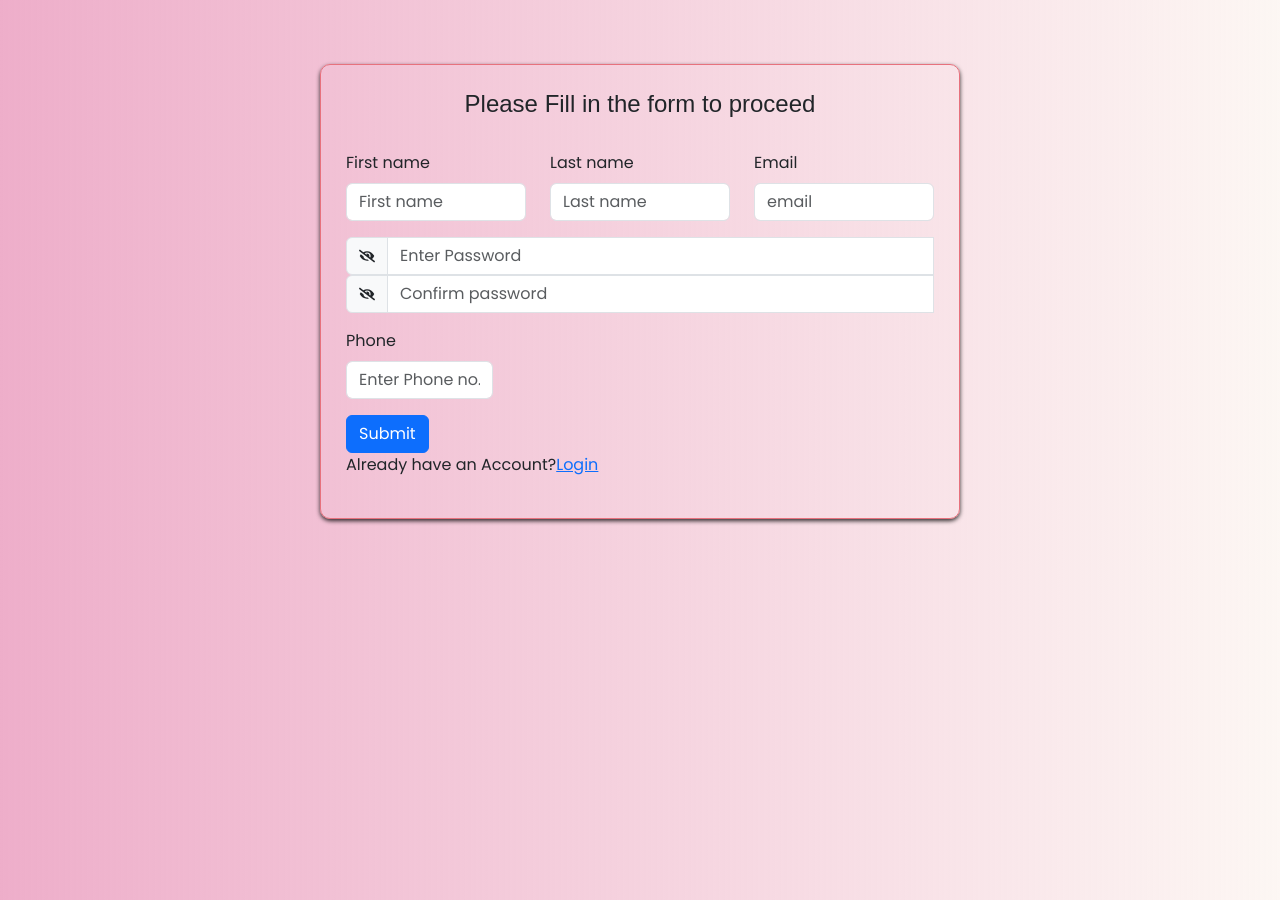
Test: shows error when passwords do not match
Type "password123" into the password field with placeholder "Enter Password".
click(660, 256); type("password123")  # box [387, 237, 934, 275]
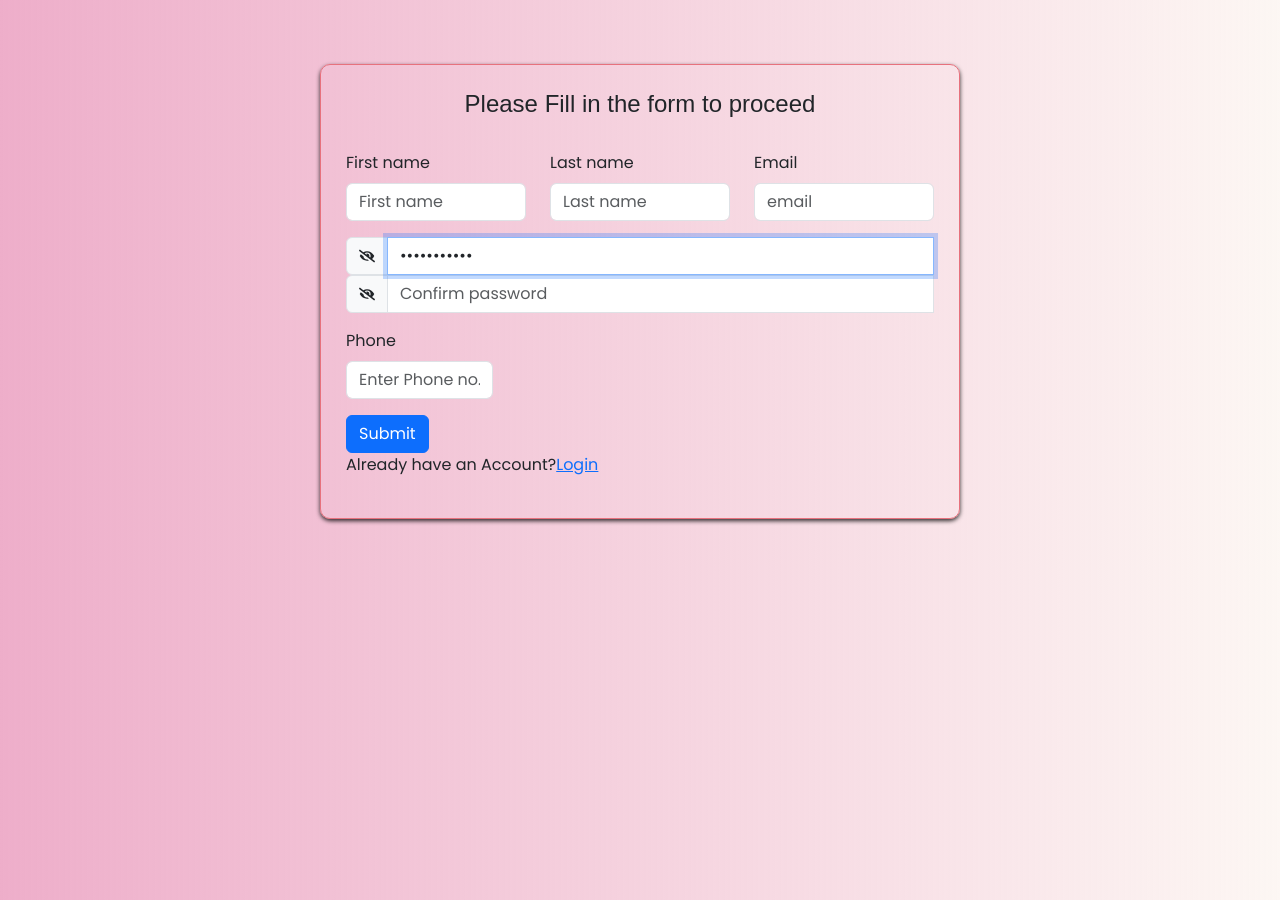
Type "password321" into the password field with placeholder "Confirm password".
click(660, 294); type("password321")  # box [387, 275, 934, 313]
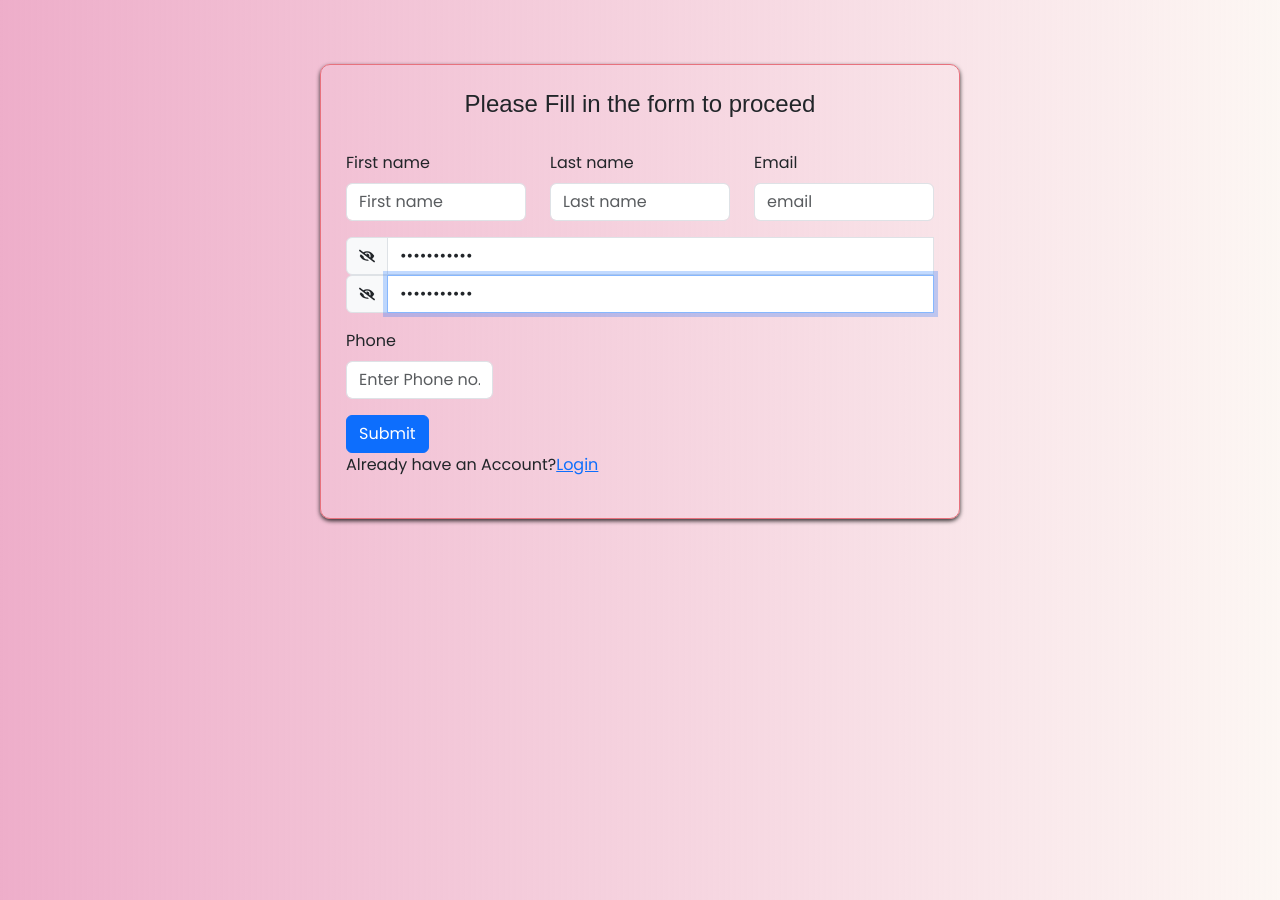
Leave the 2nd password field with placeholder "Confirm password", box [387, 275, 934, 313]
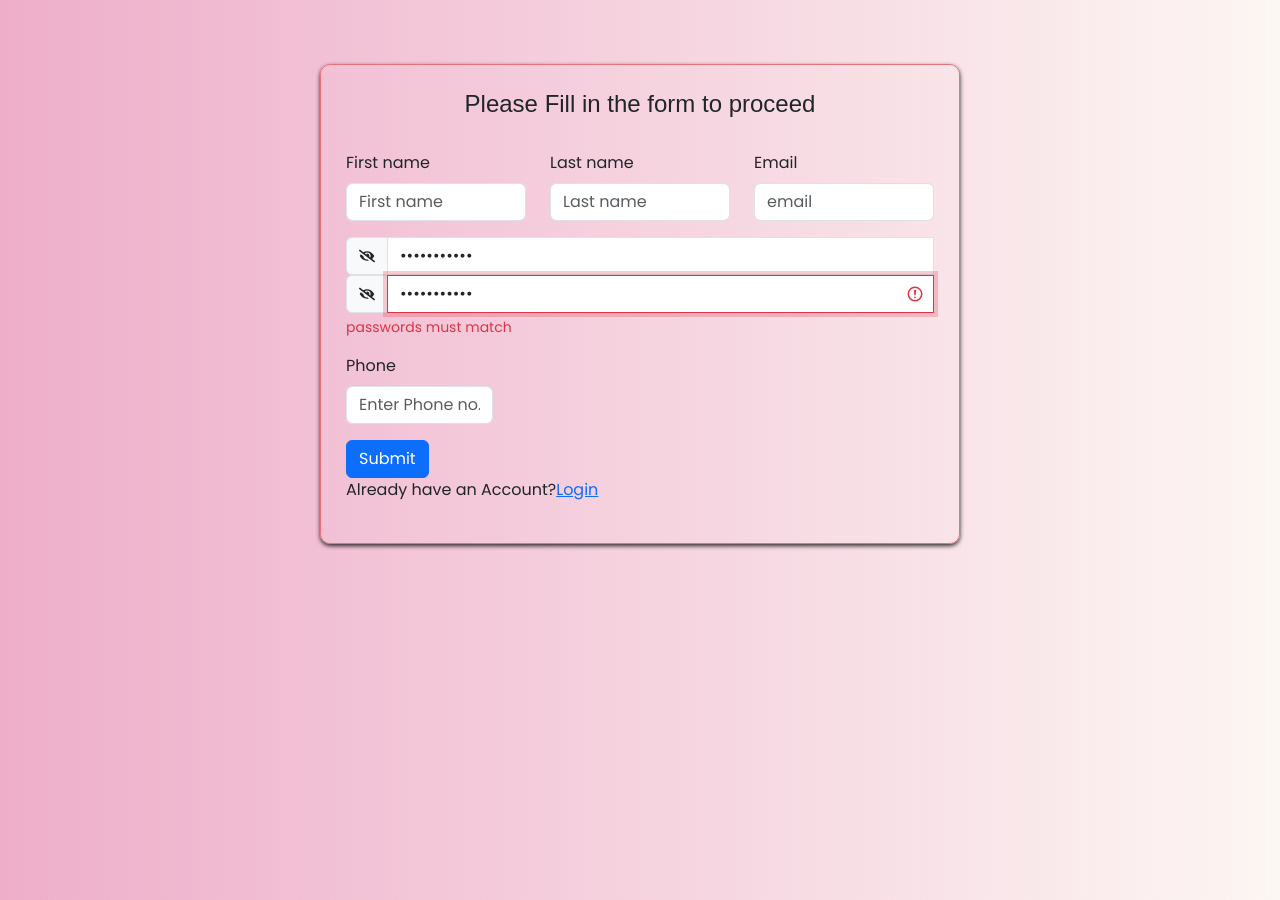
Expected: the text "passwords must match" is shown, [346, 317, 512, 337]
